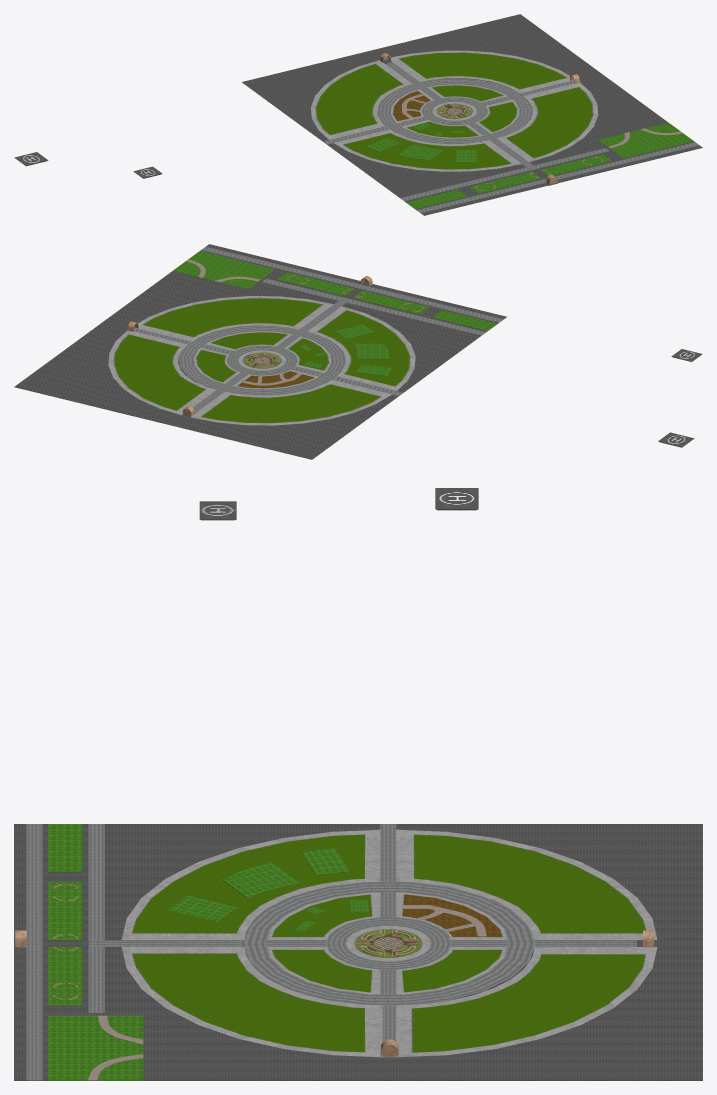
The model's file is Sniper_Second_Region.fbx.
3 views of the same model, one above another, from view 1: azimuth 30°, elevation 25°; view 2: azimuth 150°, elevation 25°; view 3: azimuth 270°, elevation 25° (orthographic). The views are drawn at different scales.
Visible parts, largest first — view 1: Pavement022, round_1_about1, round_1_about, Road_27, Grass013, Road_44, Road_28, Grass012, Road_43, Grass015, Grass04, Grass014 (+3 smaller); view 2: Pavement022, round_1_about1, round_1_about, Road_27, Grass013, Road_44, Road_28, Grass012, Road_43, Grass015, Grass04, Grass014 (+4 smaller); view 3: round_1_about1, Pavement022, round_1_about, Road_27, Grass013, Road_44, Road_28, Grass012, Road_43, Grass015, Grass04, Grass014 (+8 smaller).
Boxes of the visible parts, x1,y1,x2,y2 form: Pavement022: (242, 14, 702, 215); round_1_about1: (311, 50, 598, 171); round_1_about: (391, 84, 519, 138); Road_27: (377, 78, 532, 144); Grass013: (598, 122, 693, 158); Road_44: (417, 142, 699, 213); Road_28: (421, 97, 487, 125); Grass012: (469, 171, 540, 193); Road_43: (400, 167, 530, 200); Grass015: (540, 154, 611, 175); Grass04: (393, 91, 430, 121); Grass014: (406, 189, 467, 208); Pavement022: (14, 244, 506, 459); round_1_about1: (108, 296, 415, 425); round_1_about: (194, 331, 331, 389); Road_27: (179, 325, 345, 395); Grass013: (173, 251, 274, 289); Road_44: (201, 246, 503, 322); Road_28: (227, 345, 297, 375); Grass012: (353, 291, 429, 314); Road_43: (347, 299, 485, 335); Grass015: (277, 272, 354, 295); Grass04: (238, 371, 314, 388); Grass014: (432, 310, 497, 330); round_1_about1: (121, 829, 657, 1057); Pavement022: (14, 824, 702, 1080); round_1_about: (267, 892, 507, 994); Road_27: (239, 881, 535, 1005); Grass013: (48, 1015, 143, 1080); Road_44: (26, 824, 42, 1080); Road_28: (325, 917, 451, 969); Grass012: (48, 881, 82, 940); Road_43: (88, 824, 104, 940); Grass015: (48, 947, 82, 1005); Grass04: (402, 894, 502, 936); Grass014: (48, 824, 82, 872).
Bounding box in the file's own units: 1174 × 117 × 656.
